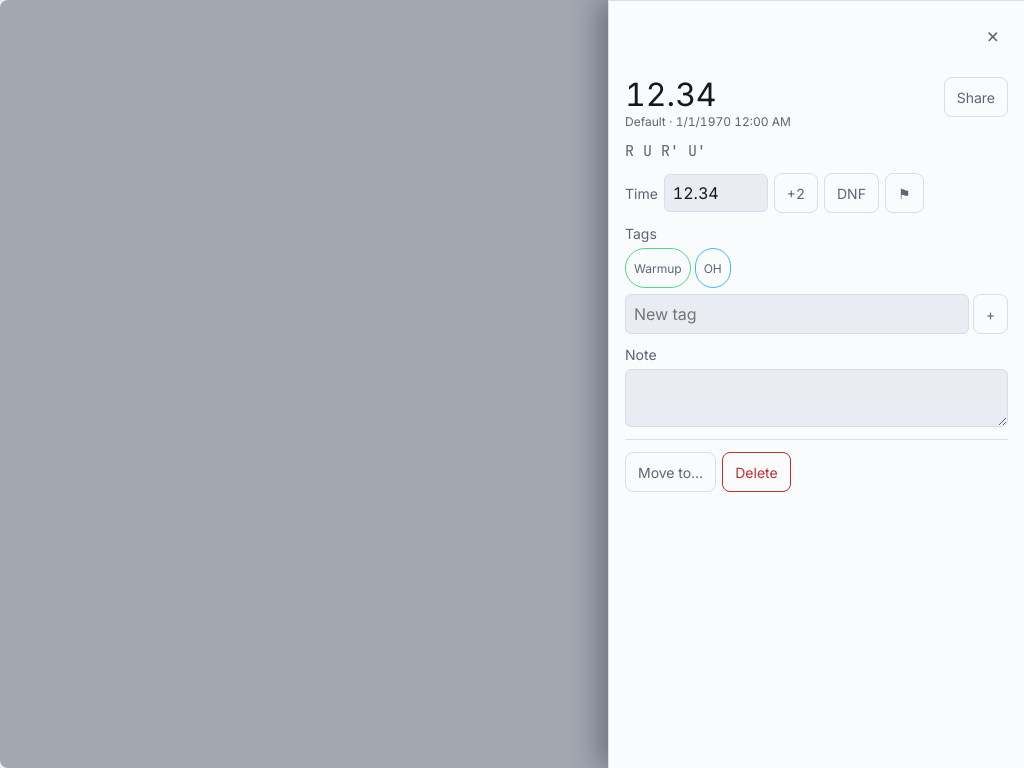
Test case: SolveDetail › time › refuses what is not a time, and says how to write one
Replace the text in the field labelled "Time" with "12,,3" at (716, 193), box [664, 174, 768, 212]
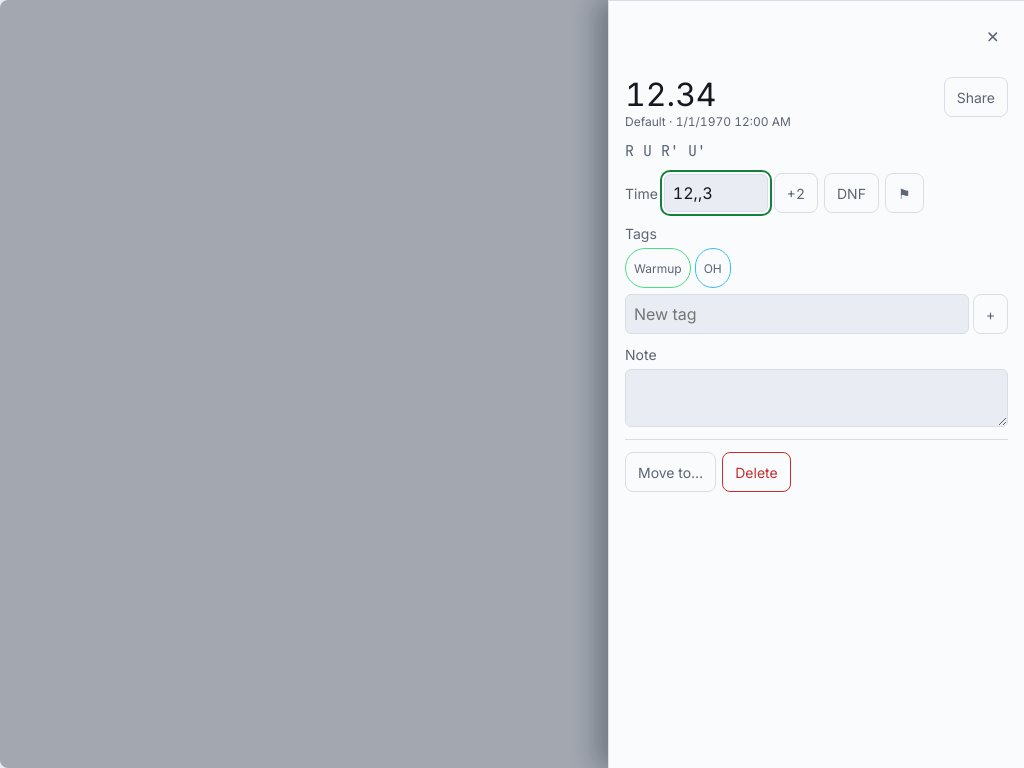
Press Tab
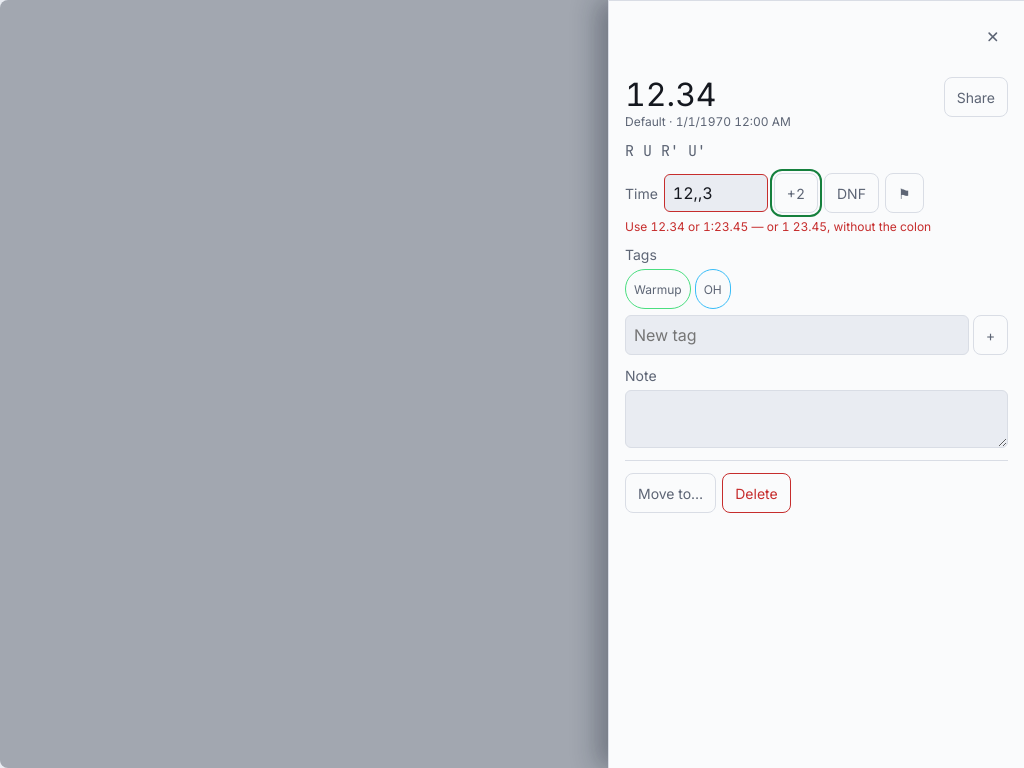
Now the text "Use 12.34 or 1:23.45 — or 1 23.45, without the colon" is shown, box [625, 219, 931, 234]
